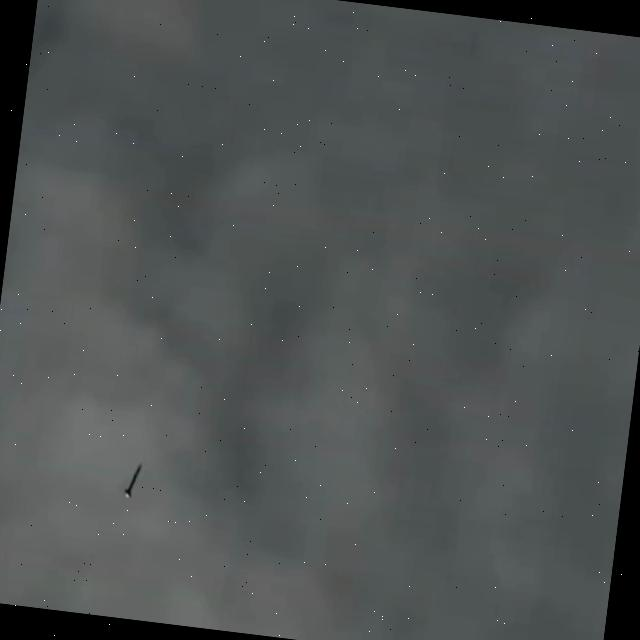rocket: (122, 464, 141, 497)
